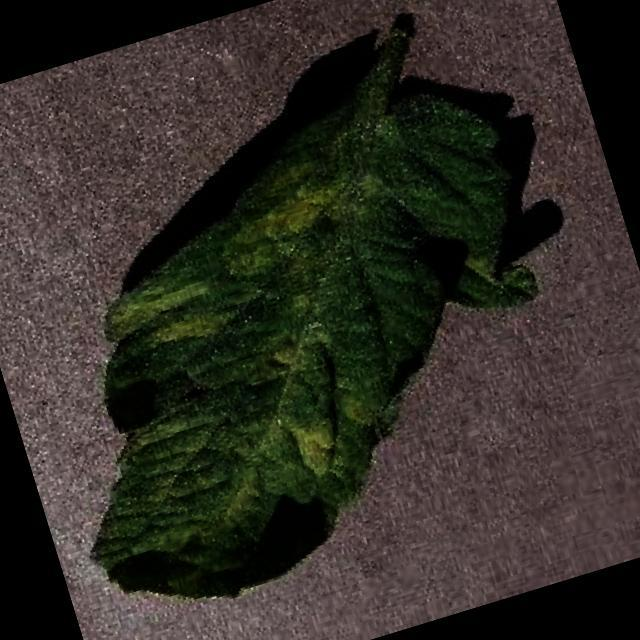Tomato mold leaf: (0, 63, 599, 636)
